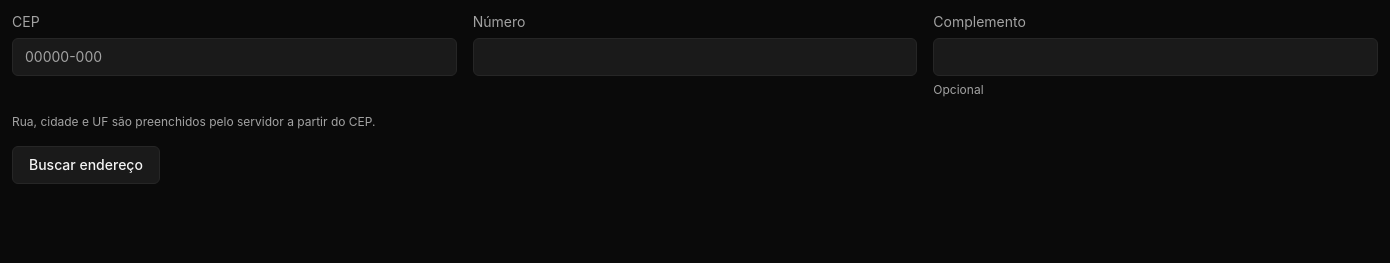
it: AddressPicker › 400 duplicado com endereço no cache seleciona o salvo
Type "01310100" into the field labelled "CEP".
click(234, 57); type("01310100")  # box top-left (12, 38), bottom-right (457, 76)
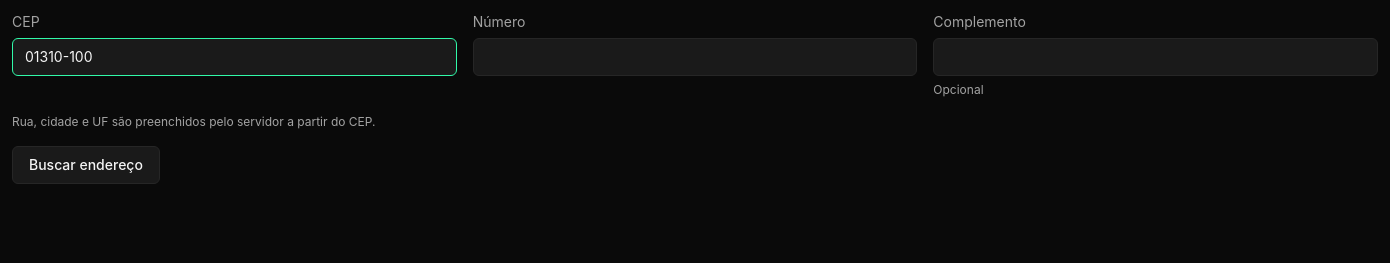
Type "1000" into the field labelled "Número".
click(695, 57); type("1000")  # box top-left (473, 38), bottom-right (917, 76)
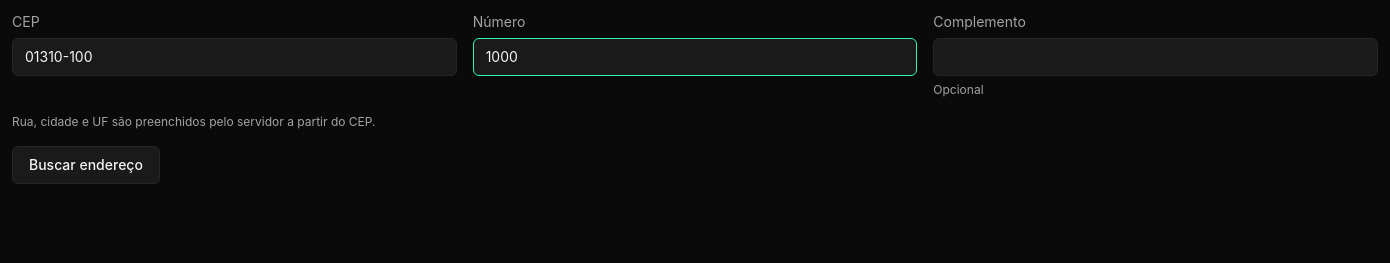
Click the button "Buscar endereço".
click(86, 165)  # box top-left (12, 146), bottom-right (160, 184)
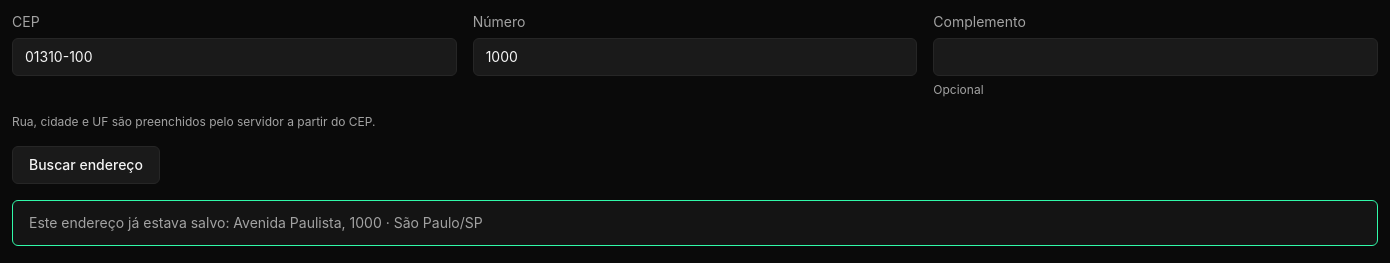
Check: the text "Este endereço já estava salvo: Avenida Paulista, 1000 · São Paulo/SP" is shown, box top-left (29, 214), bottom-right (483, 231)
